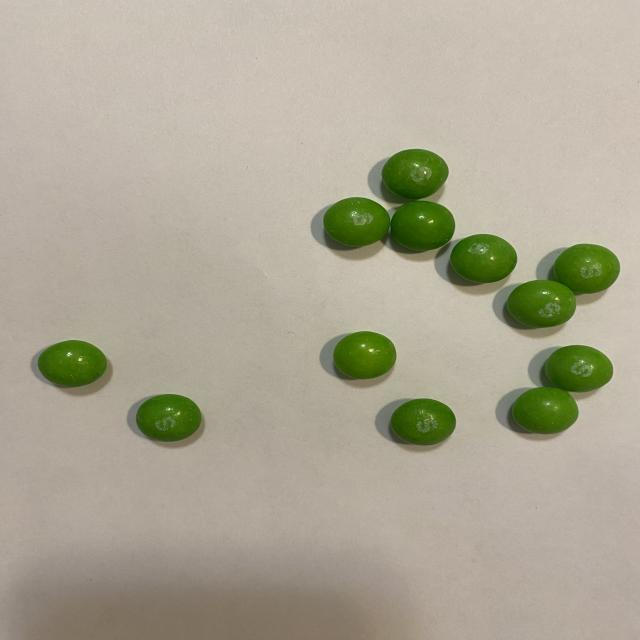smartie: (41, 342, 101, 383), (512, 282, 571, 323), (388, 151, 445, 193), (518, 389, 576, 430), (551, 348, 609, 389), (561, 245, 617, 287), (328, 199, 385, 240), (396, 403, 452, 444), (141, 398, 197, 439), (457, 236, 513, 277), (396, 203, 450, 245), (339, 334, 393, 375)
